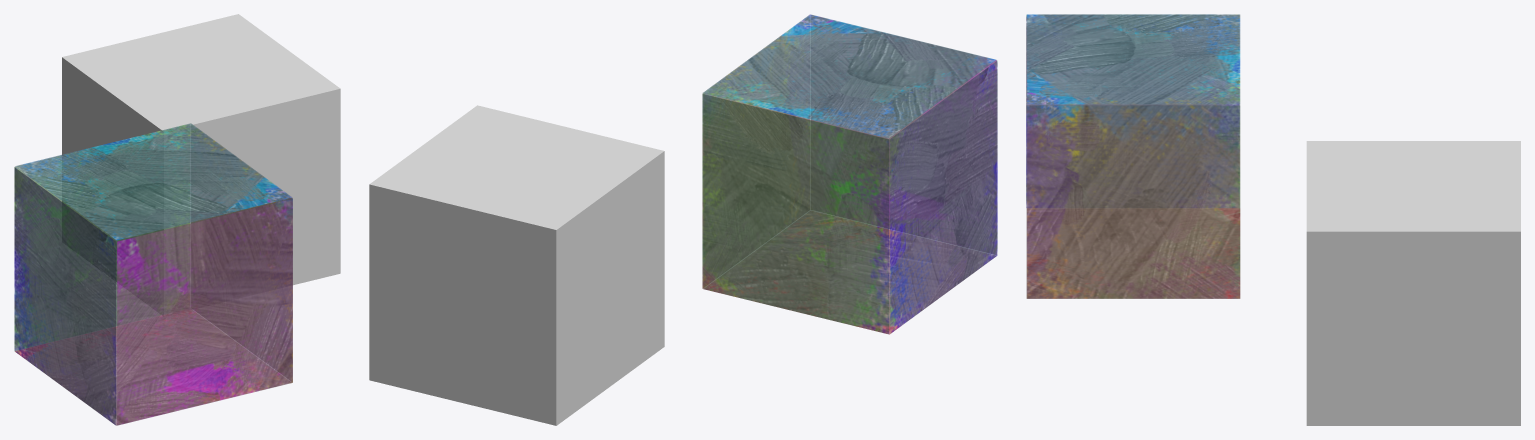
3 views of the same model, side by side, from view 1: azimuth 30°, elevation 25°; view 2: azimuth 150°, elevation 25°; view 3: azimuth 270°, elevation 25° (orthographic). The views are drawn at different scales.
Parts seen in each view (by area): view 1: Cube, Cube.001; view 2: Cube.001, Cube; view 3: Cube.001, Cube.
Boxes of the visible parts, x1=… form: Cube: x1=14, y1=123, x2=292, y2=425; Cube.001: x1=62, y1=14, x2=340, y2=309; Cube.001: x1=369, y1=105, x2=664, y2=425; Cube: x1=702, y1=14, x2=997, y2=334; Cube.001: x1=1306, y1=141, x2=1520, y2=425; Cube: x1=1026, y1=14, x2=1240, y2=298.
Size of the model in its own units: 4.05 by 2.35 by 4.62.
1 material, 1 textured.
